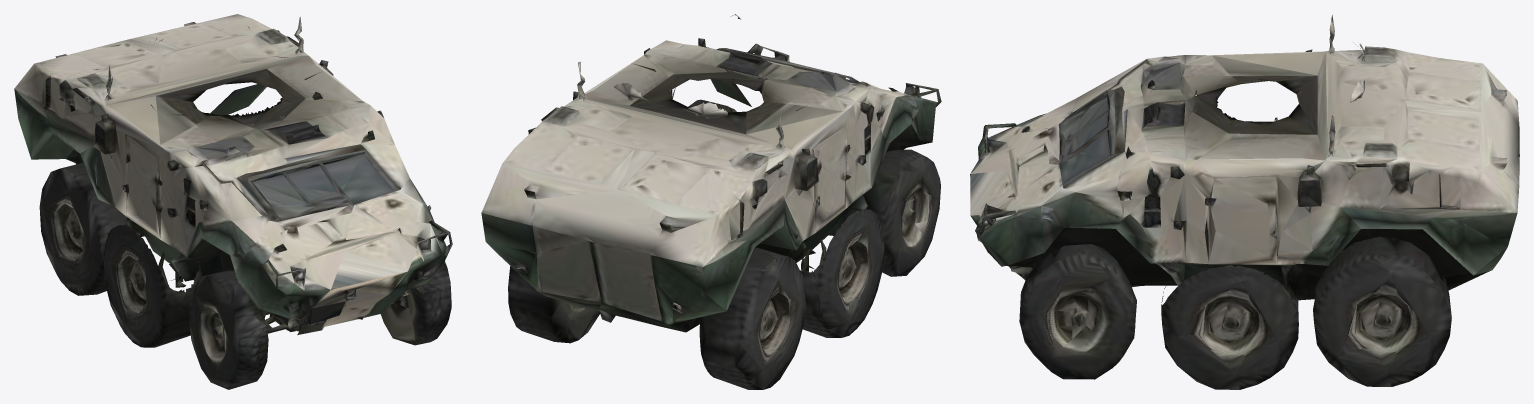
File: t94_bulldog_lod1.glb
The picture shows the model from 3 angles, left to right: view 1: azimuth 30°, elevation 25°; view 2: azimuth 150°, elevation 25°; view 3: azimuth 270°, elevation 25°; orthographic projection. The views are drawn at different scales.
Bounding box in the file's own units: 2.69 × 2.64 × 4.89.
Materials: 1 (1 with a texture image).
